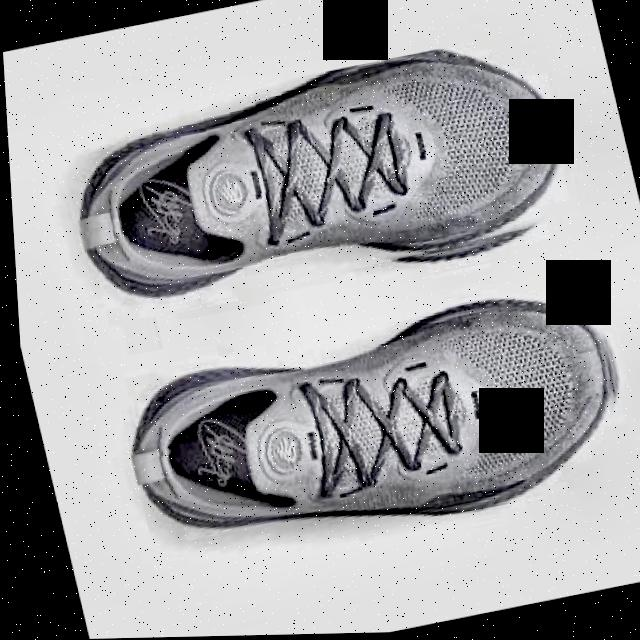shoe: (48, 29, 590, 331), (102, 275, 637, 573)
